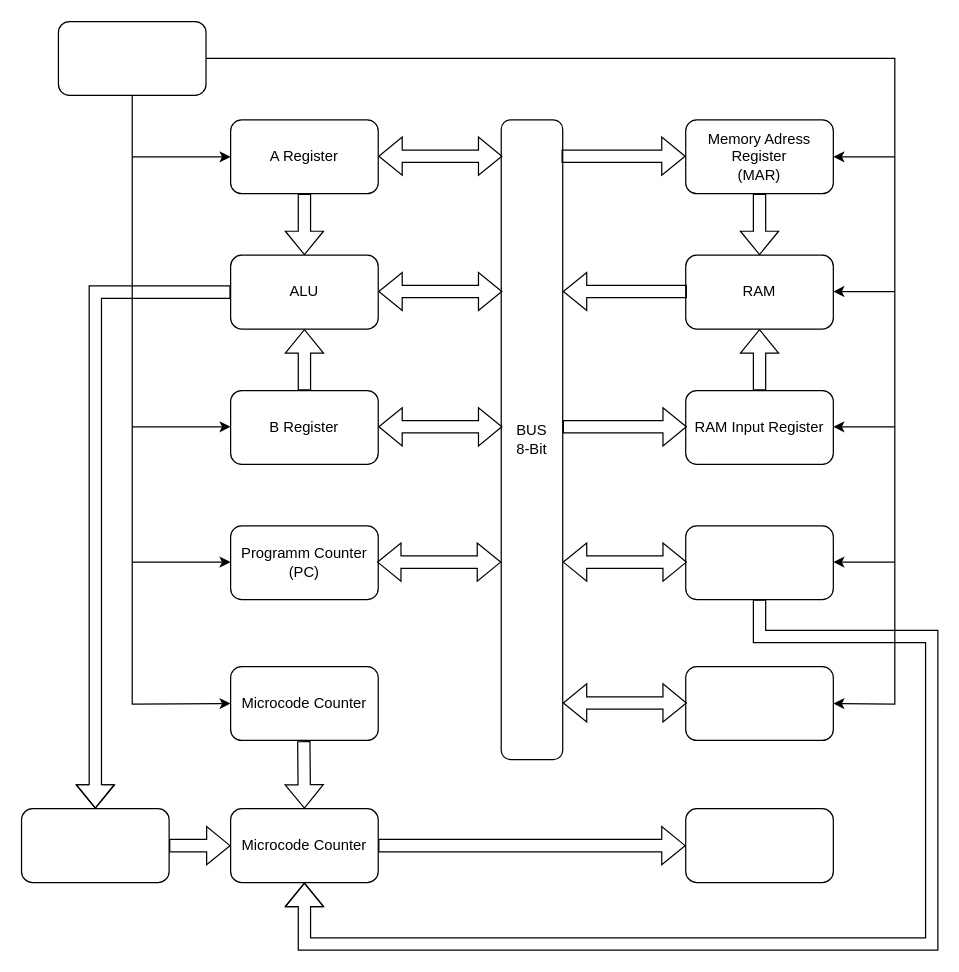
This 959x972 diagram has some shape labels left out. The shapes that lost their labels are listed below. From the top down, each one's centre as x and y in pixels, then its label:
At (131,57): "Clock".
At (758,562): "Instruction Register".
At (758,702): "Output Register".
At (94,845): "Flag Register".
At (758,845): "Manual Controls and Reset".
